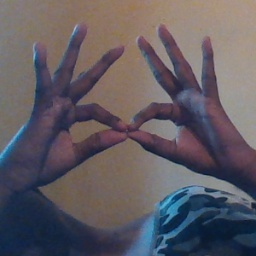B: (58, 82, 192, 167)
